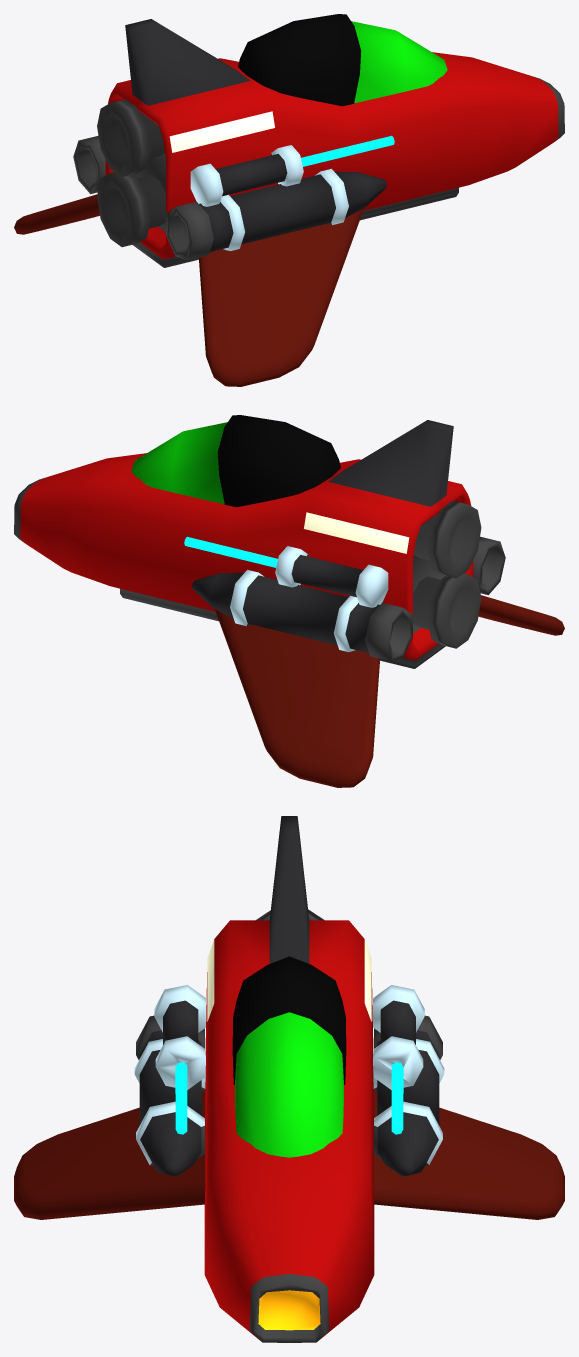
The model's file is greenSpaceship.glb.
3 views of the same model, one above another, from view 1: azimuth 30°, elevation 25°; view 2: azimuth 150°, elevation 25°; view 3: azimuth 270°, elevation 25° (orthographic). The views are drawn at different scales.
Visible parts, largest first — view 1: Cube.010, Cube.019, Cube.006, Cylinder.001; view 2: Cube.010, Cube.019, Cube.006, Cylinder.001; view 3: Cube.010, Cube.019, Cube.006.
Boxes of the visible parts, left/top/right/bottom form: Cube.010: left=73, top=19, right=564, bottom=267; Cube.019: left=14, top=194, right=363, bottom=386; Cube.006: left=238, top=14, right=447, bottom=106; Cylinder.001: left=97, top=99, right=165, bottom=247; Cube.010: left=14, top=420, right=505, bottom=668; Cube.019: left=215, top=595, right=564, bottom=787; Cube.006: left=131, top=415, right=340, bottom=507; Cylinder.001: left=413, top=501, right=481, bottom=648; Cube.010: left=134, top=816, right=444, bottom=1342; Cube.019: left=14, top=1090, right=564, bottom=1219; Cube.006: left=232, top=956, right=346, bottom=1157.
Size of the model in its own units: 3.97 by 2.46 by 3.38.
Materials: 4 (2 with a texture image).
